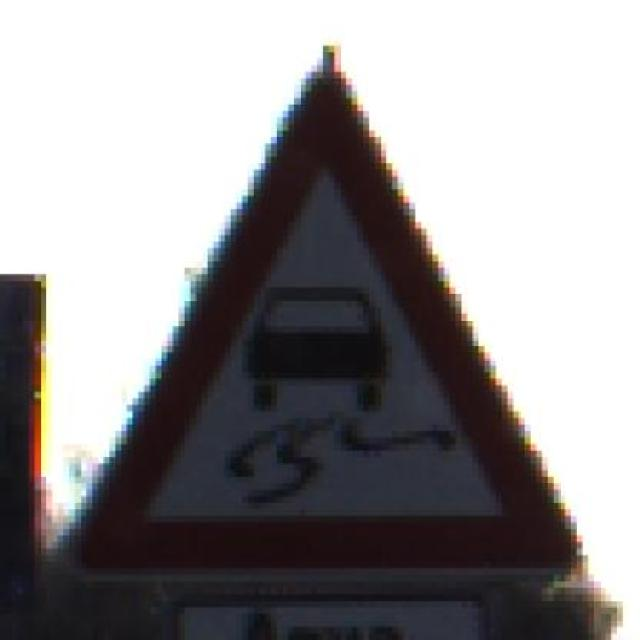Slippery Road Ahead: (58, 52, 582, 588)
